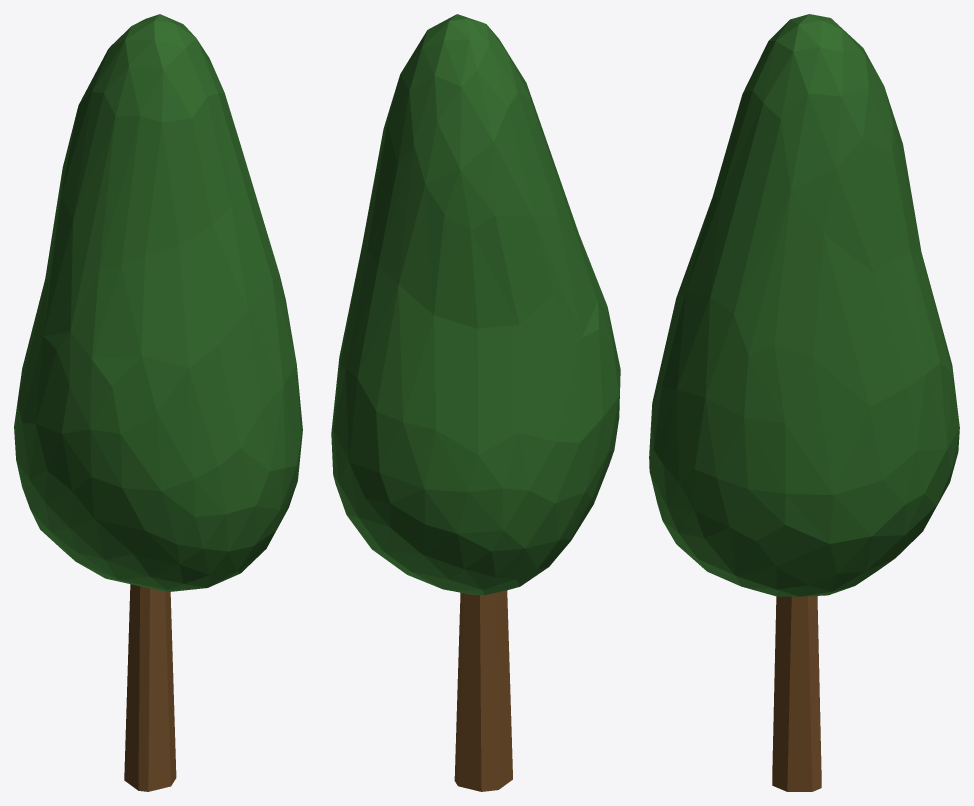
File: tree2.fbx
3 renders of one model, left to right at view 1: azimuth 30°, elevation 25°; view 2: azimuth 150°, elevation 25°; view 3: azimuth 270°, elevation 25°, orthographic. The views are drawn at different scales.
Parts seen in each view (by area): view 1: Leaves, Trunk; view 2: Leaves, Trunk; view 3: Leaves, Trunk.
Part boxes in pixels (x1=…): Leaves: x1=14, y1=14, x2=302, y2=592; Trunk: x1=124, y1=584, x2=176, y2=791; Leaves: x1=331, y1=14, x2=620, y2=595; Trunk: x1=454, y1=590, x2=512, y2=791; Leaves: x1=649, y1=14, x2=959, y2=596; Trunk: x1=772, y1=596, x2=821, y2=791.
Size of the model in its own units: 82.85 by 244 by 88.86.
